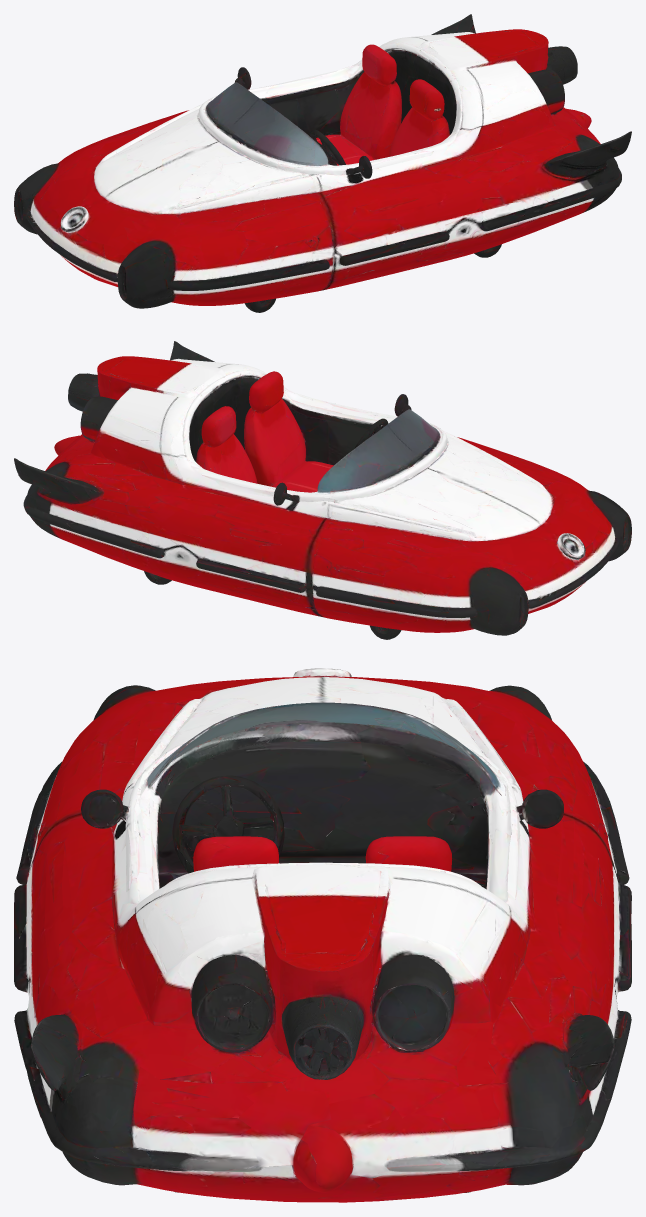
Rendered from ocean-skiff.glb.
3 views of the same model, one above another, from view 1: azimuth 30°, elevation 25°; view 2: azimuth 150°, elevation 25°; view 3: azimuth 270°, elevation 25° (orthographic). The views are drawn at different scales.
Visible parts, largest first — view 1: Mesh_0; view 2: Mesh_0; view 3: Mesh_0.
Part boxes in pixels (x1,y1,x2,y2): Mesh_0: (14, 14, 631, 312); Mesh_0: (14, 341, 631, 639); Mesh_0: (14, 668, 631, 1202).
Size of the model in its own units: 1.9 by 0.5977 by 1.05.
Materials: 1 (1 with a texture image).
